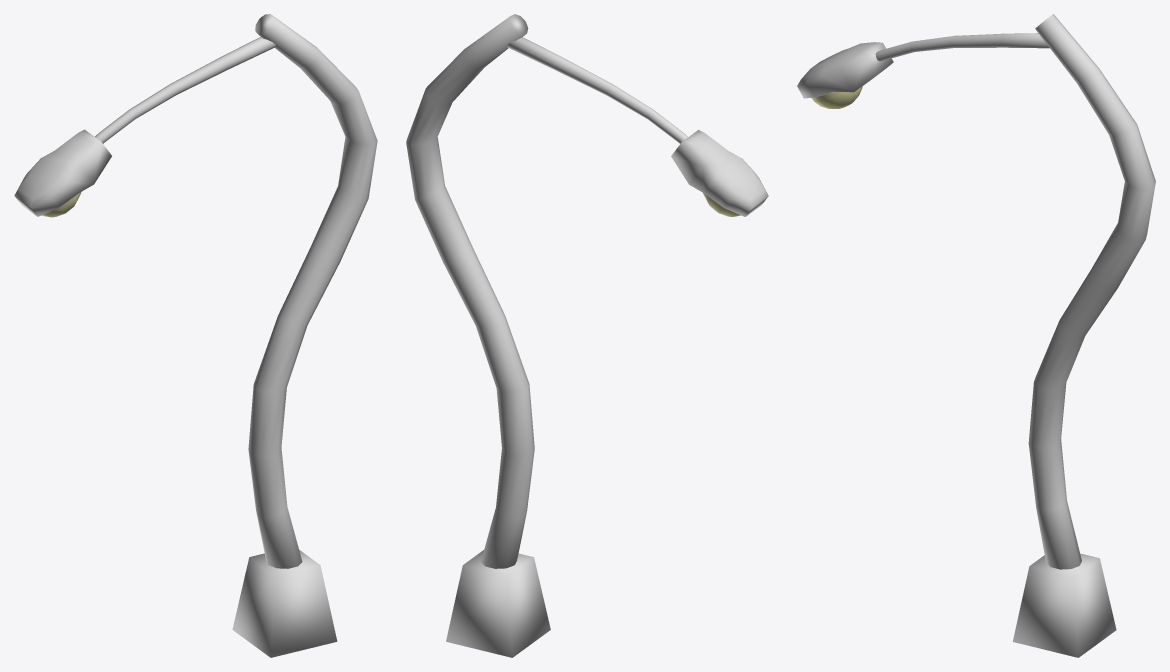
Rendered from TheStreetLamp.fbx.
The picture shows the model from 3 angles, left to right: view 1: azimuth 30°, elevation 25°; view 2: azimuth 150°, elevation 25°; view 3: azimuth 330°, elevation 25°; orthographic projection.
Visible parts, largest first — view 1: curve6; view 2: curve6; view 3: curve6.
Boxes of the visible parts, bbox=[...] form: curve6: bbox=[14, 14, 377, 657]; curve6: bbox=[406, 14, 768, 657]; curve6: bbox=[797, 14, 1155, 657].
Bounding box in the file's own units: 7.3 × 12.35 × 1.38.
